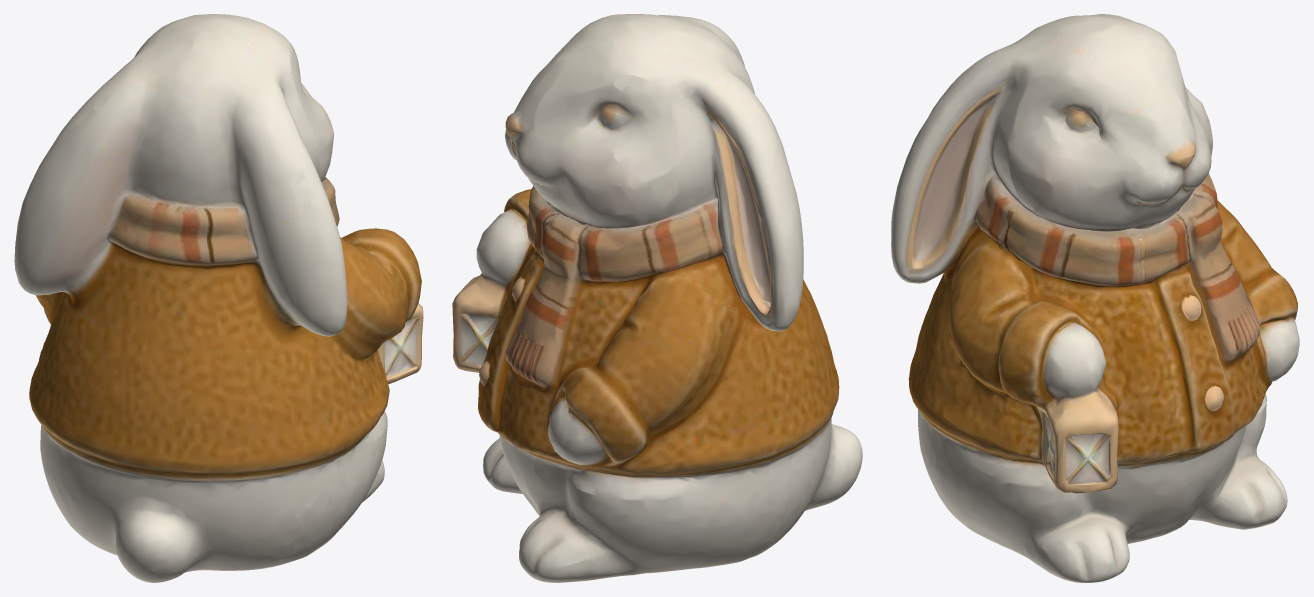
The model's file is rabbit.glb.
3 views of the same model, side by side, from view 1: azimuth 30°, elevation 25°; view 2: azimuth 150°, elevation 25°; view 3: azimuth 270°, elevation 25° (orthographic).
Bounding box in the file's own units: 1.56 × 2 × 1.52.
Materials: 1 (1 with a texture image).
